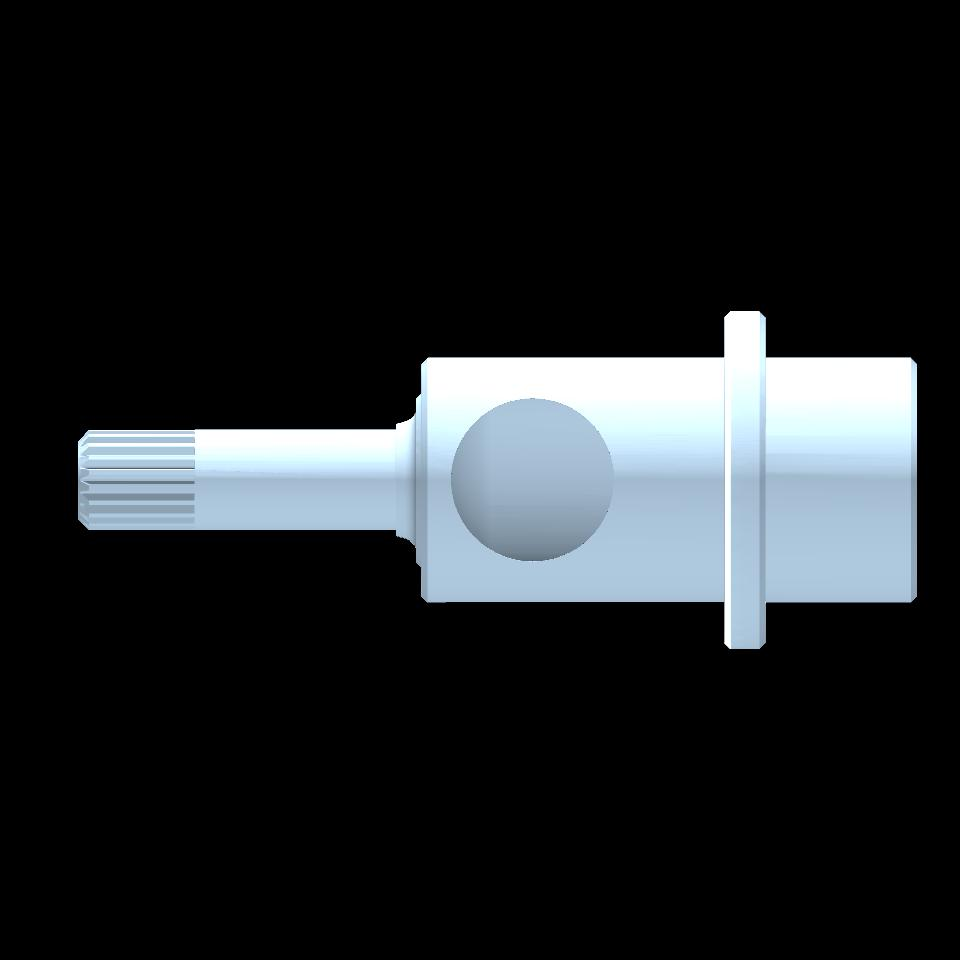Straight: (90, 430, 191, 529)
